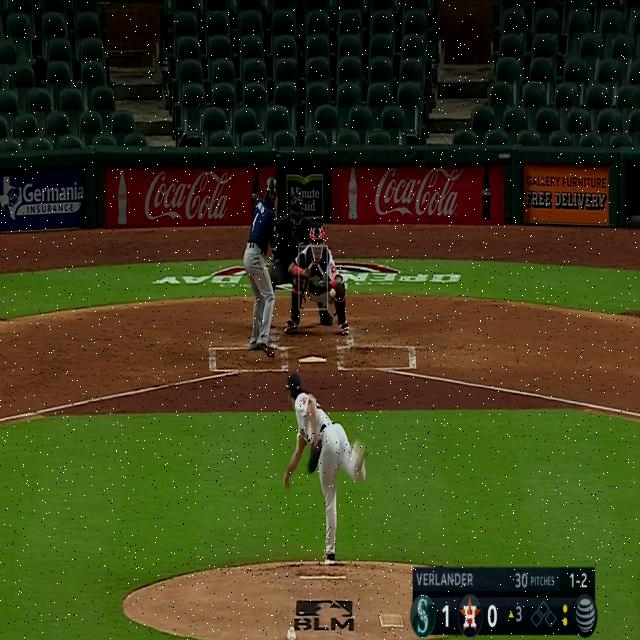baseball: (330, 288, 335, 298)
